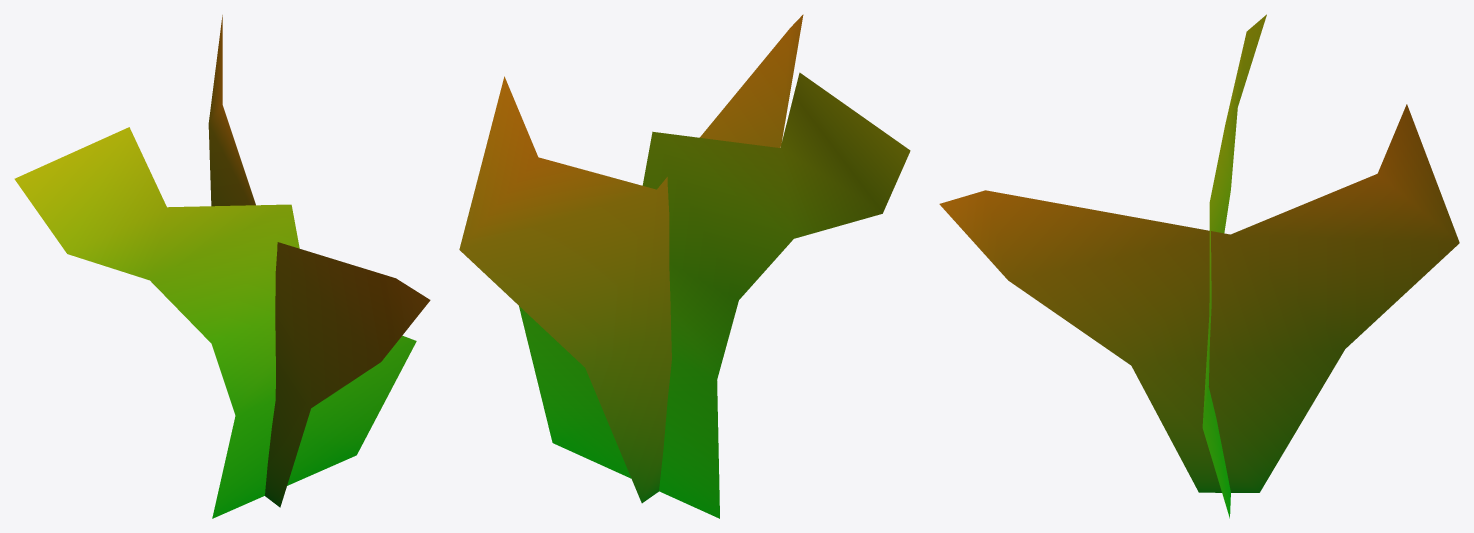
The model's file is Var11Hi39.fbx.
The picture shows the model from 3 angles, left to right: view 1: azimuth 30°, elevation 25°; view 2: azimuth 150°, elevation 25°; view 3: azimuth 270°, elevation 25°; orthographic projection. The views are drawn at different scales.
Parts seen in each view (by area): view 1: bend1; view 2: bend1; view 3: bend1.
Part boxes in pixels (<box>): bend1: <box>14,15,430,518</box>; bend1: <box>459,14,910,518</box>; bend1: <box>939,14,1459,518</box>.
Size of the model in its own units: 1.35 by 1.45 by 1.63.
